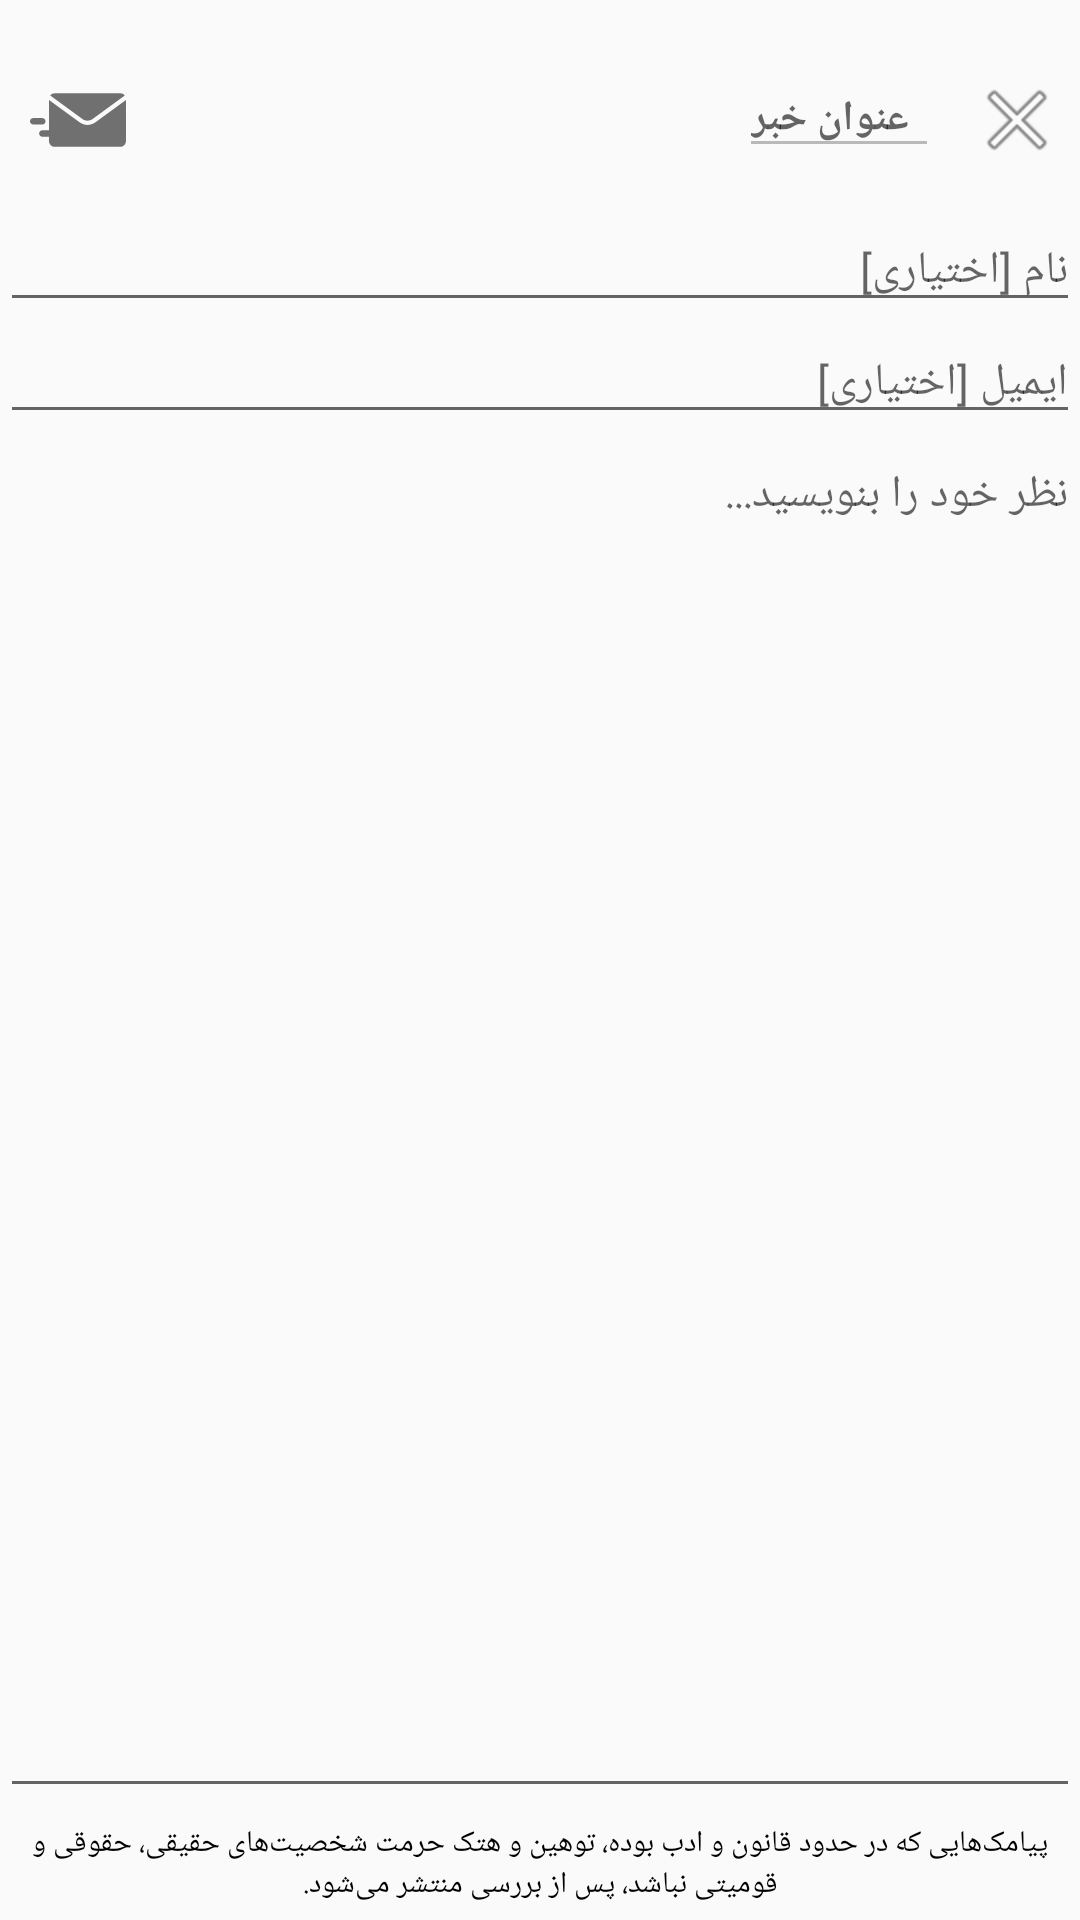

Screen size 1080*1920. Icon name, then its center in pixels as (x=x, y=y):
close clear cancel: (x=1017, y=120)
sendt: (x=78, y=120)
